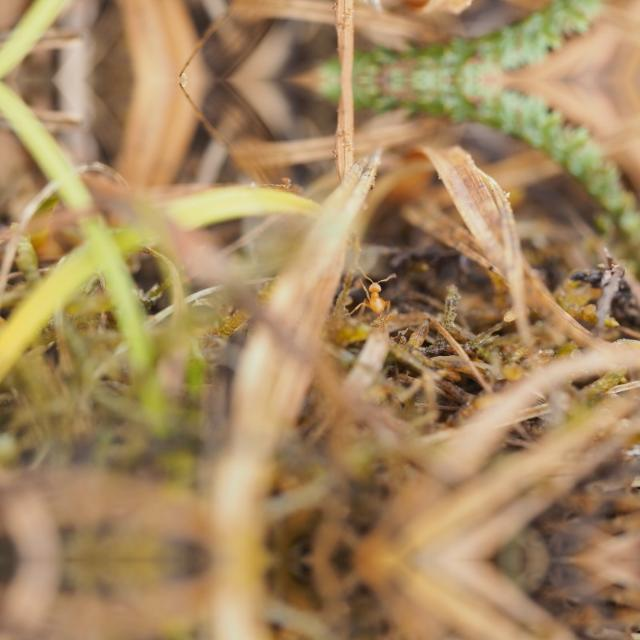Lasius: (356, 268, 404, 324)
